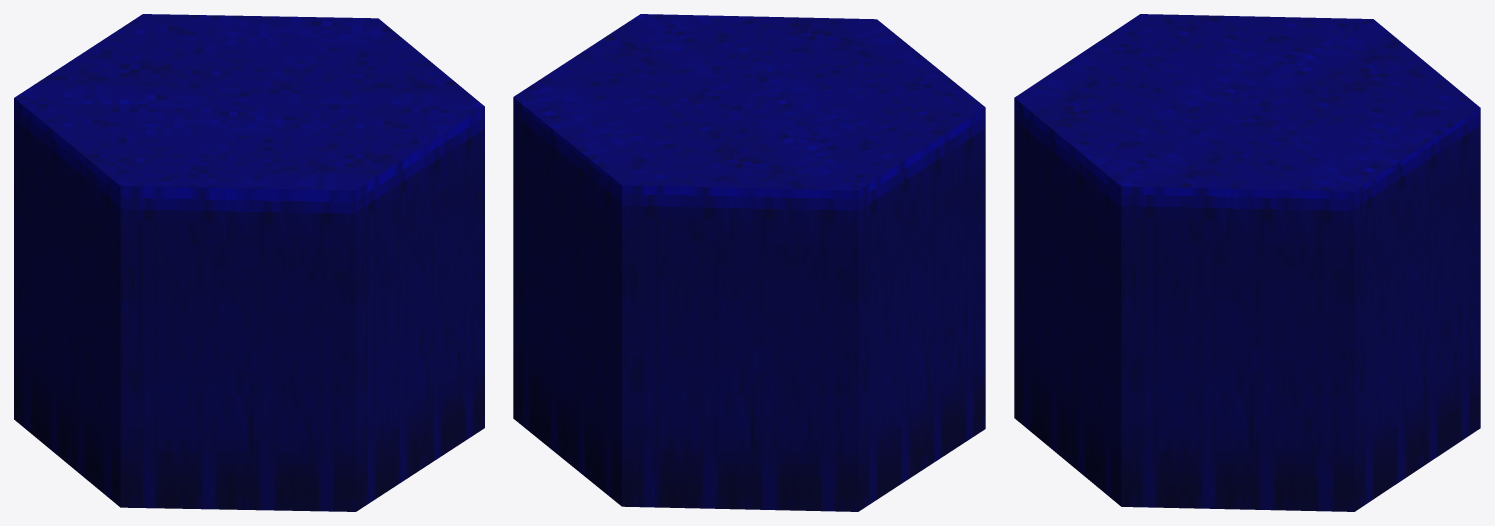
File: primary_041.glb
3 renders of one model, left to right at view 1: azimuth 30°, elevation 25°; view 2: azimuth 150°, elevation 25°; view 3: azimuth 270°, elevation 25°, orthographic.
Parts seen in each view (by area): view 1: Object; view 2: Object; view 3: Object.
Boxes of the visible parts, bbox=[...] form: Object: bbox=[14, 14, 484, 511]; Object: bbox=[513, 14, 985, 511]; Object: bbox=[1014, 14, 1480, 511].
Size of the model in its own units: 0.1613 by 0.1357 by 0.179.
Materials: 2 (2 with a texture image).
